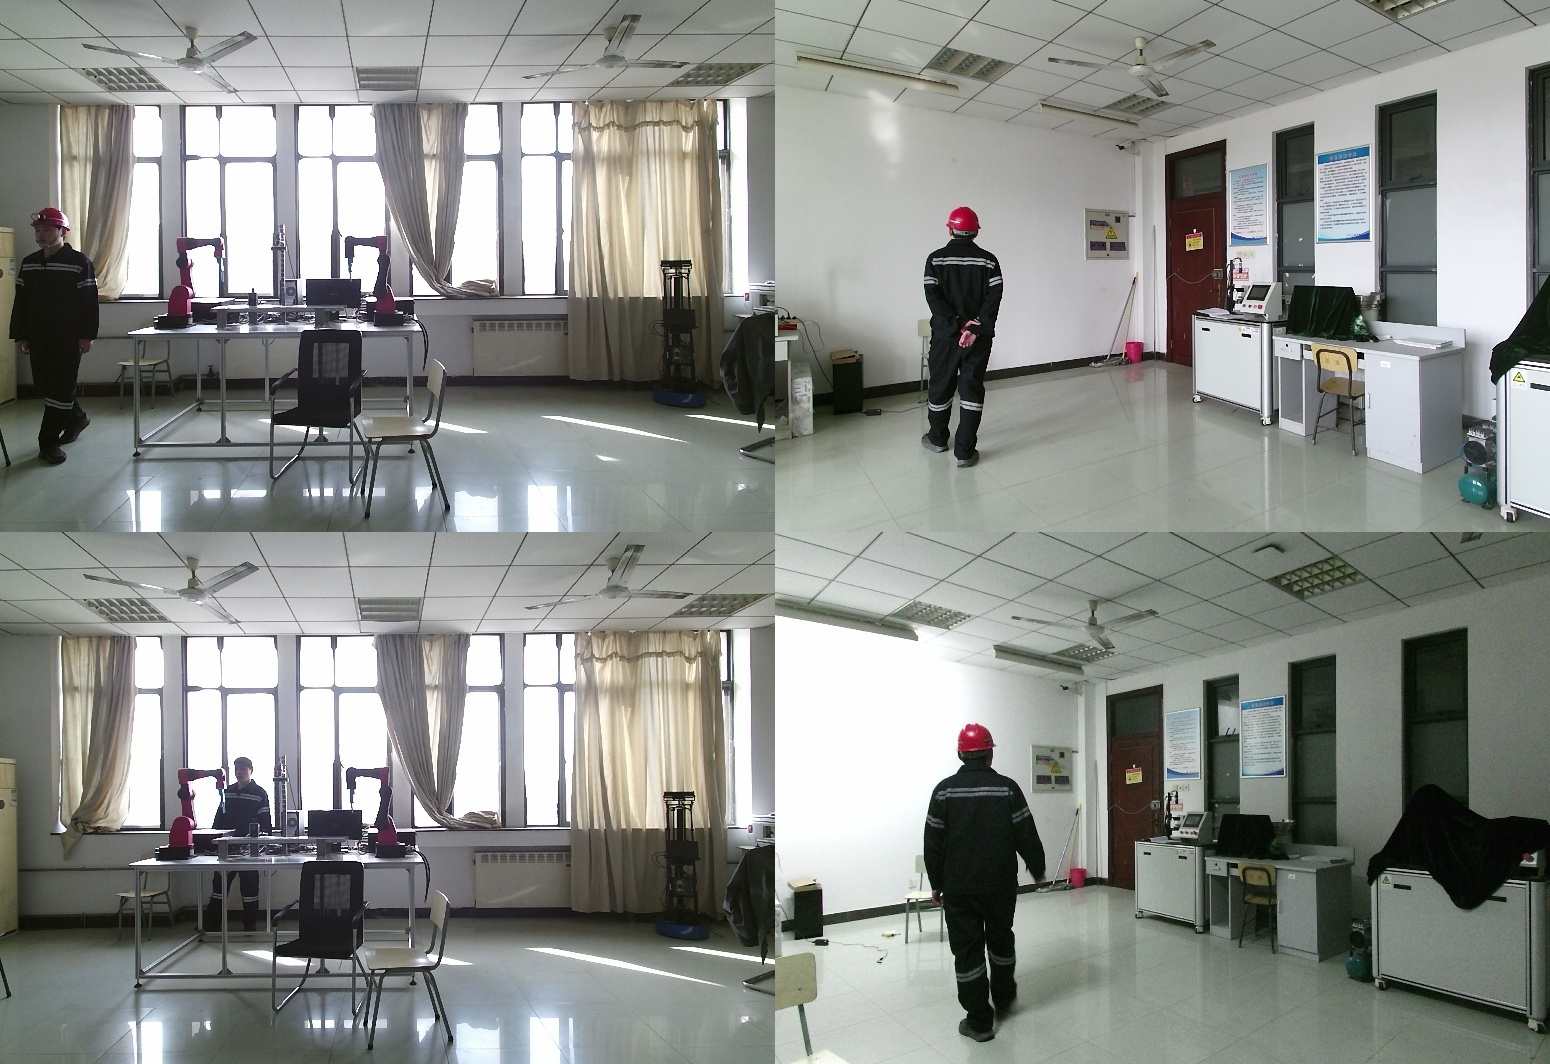person: (924, 725, 1046, 1041), (918, 209, 1016, 466), (9, 209, 105, 465), (199, 758, 272, 946)
